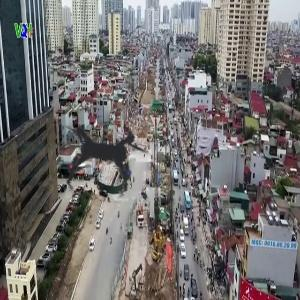drone: (28, 77, 186, 235)
